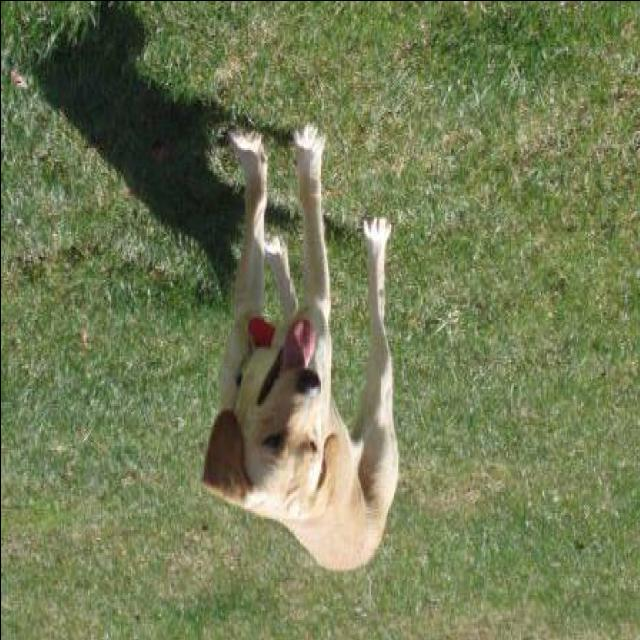dog: (140, 126, 421, 591)
